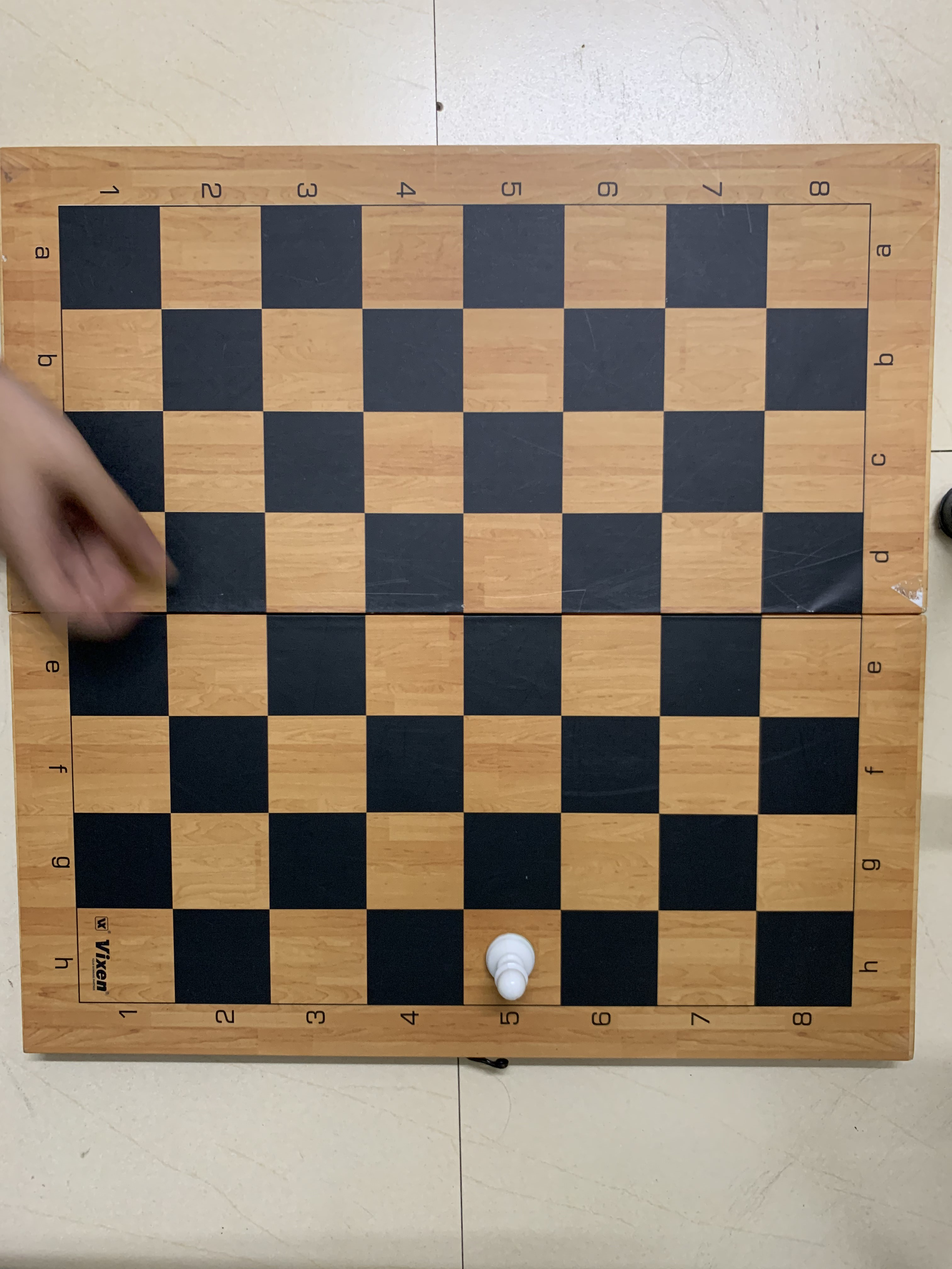white_pawn: (469, 910, 570, 1013)
